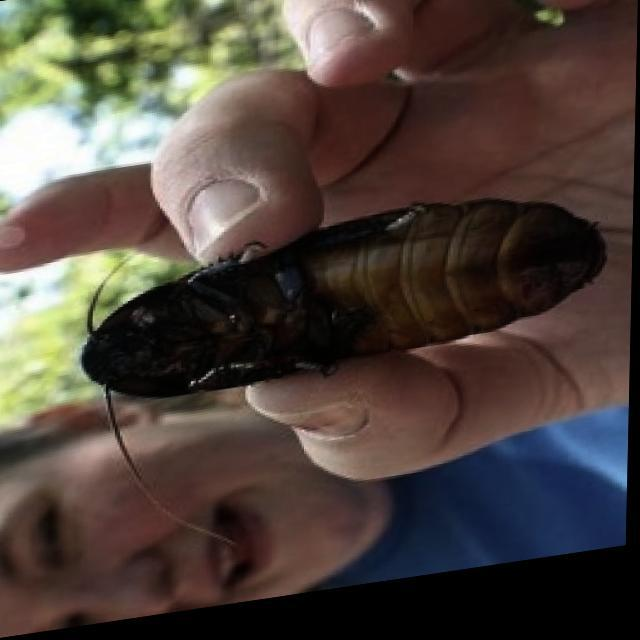cockroach: (47, 169, 614, 473)
